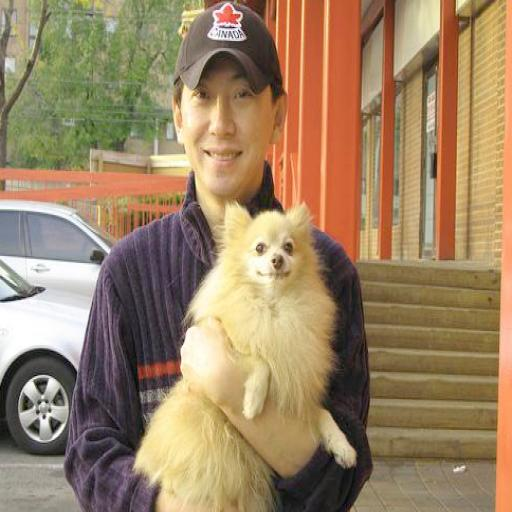dog_face: (219, 197, 316, 301)
